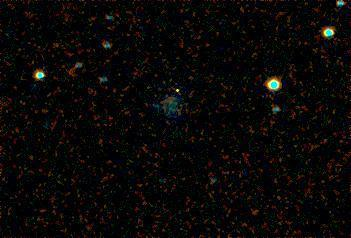star: (162, 74, 192, 104)
